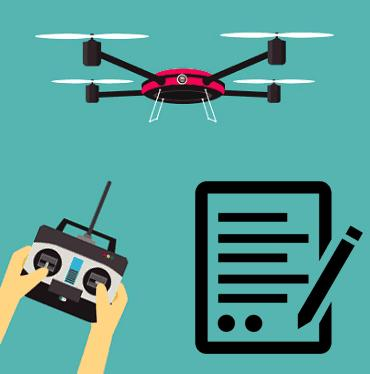drone: (27, 26, 349, 128)
